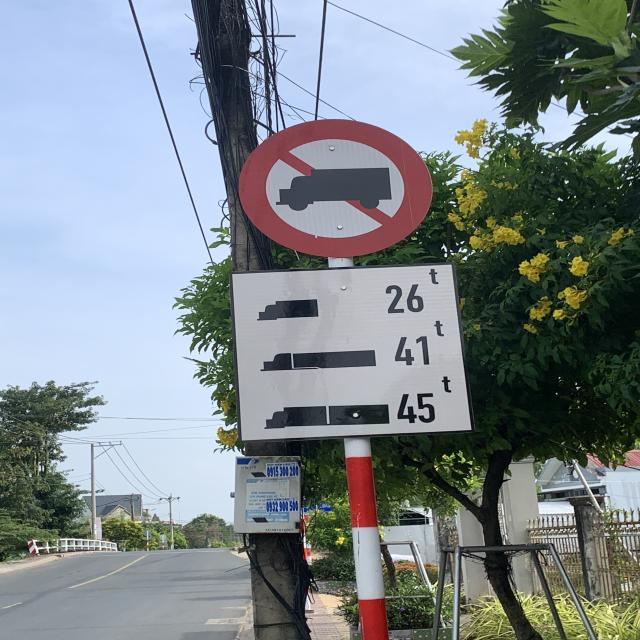Cam_Xe_Tai: (241, 119, 436, 256)
